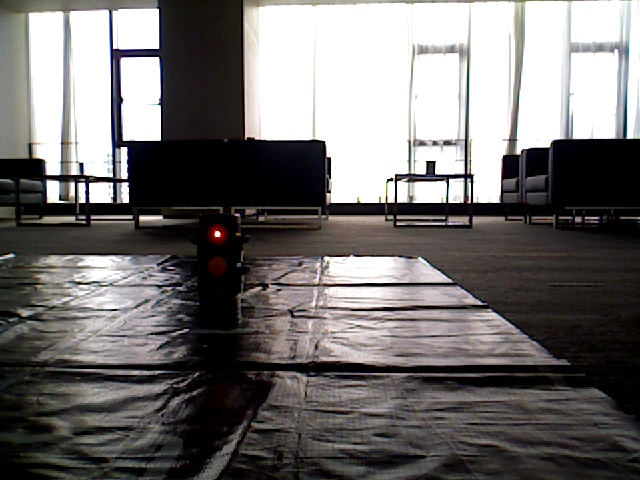red: (200, 208, 238, 309)
